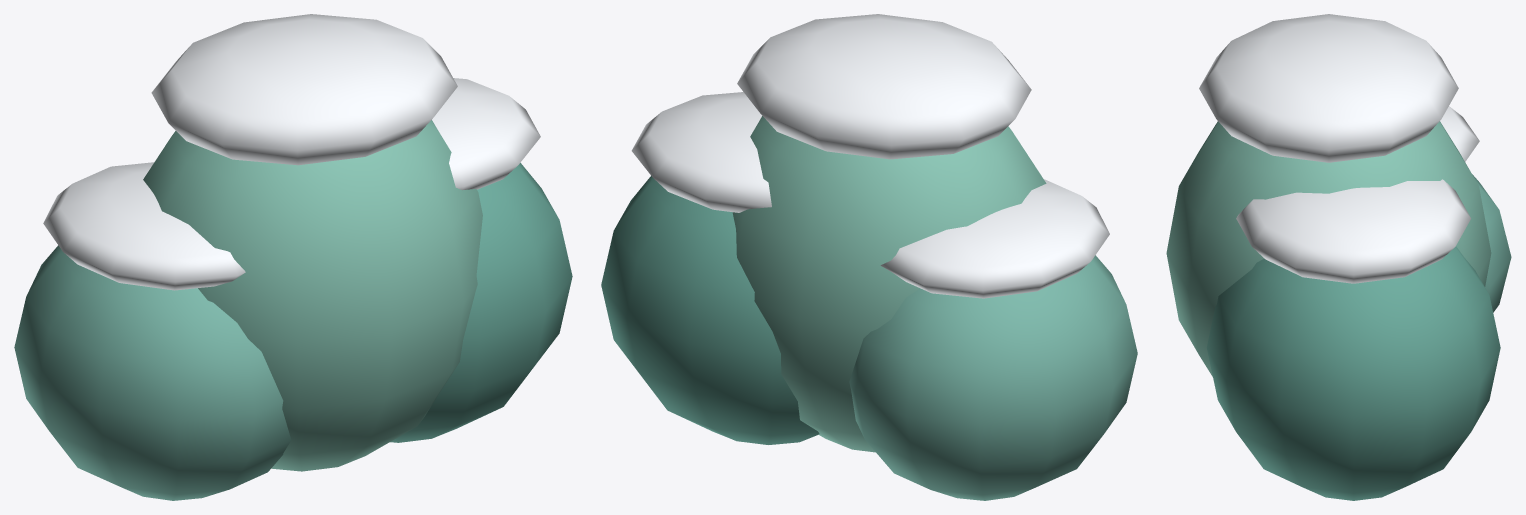
Rendered from shrub_winter.glb.
3 renders of one model, left to right at view 1: azimuth 30°, elevation 25°; view 2: azimuth 150°, elevation 25°; view 3: azimuth 270°, elevation 25°, orthographic. The views are drawn at different scales.
Parts seen in each view (by area): view 1: Base_Shrub (×3), Season_ShrubSnow (×3); view 2: Base_Shrub (×3), Season_ShrubSnow (×3); view 3: Base_Shrub (×3), Season_ShrubSnow (×3).
Boxes of the visible parts, bbox=[...] form: Base_Shrub (×3): bbox=[14, 120, 572, 500]; Season_ShrubSnow (×3): bbox=[43, 14, 540, 290]; Base_Shrub (×3): bbox=[601, 116, 1137, 500]; Season_ShrubSnow (×3): bbox=[631, 14, 1109, 298]; Base_Shrub (×3): bbox=[1166, 121, 1511, 500]; Season_ShrubSnow (×3): bbox=[1199, 14, 1479, 283].
Bounding box in the file's own units: 1.77 × 1.39 × 1.12.
